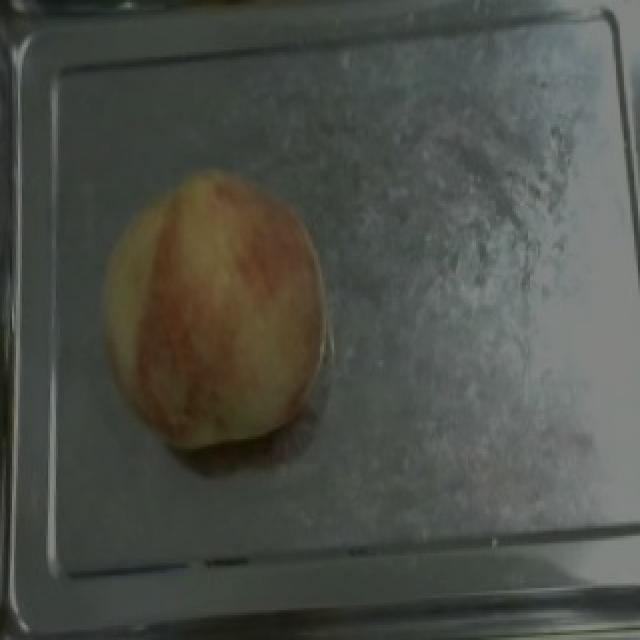Fruit: (78, 149, 342, 464)
